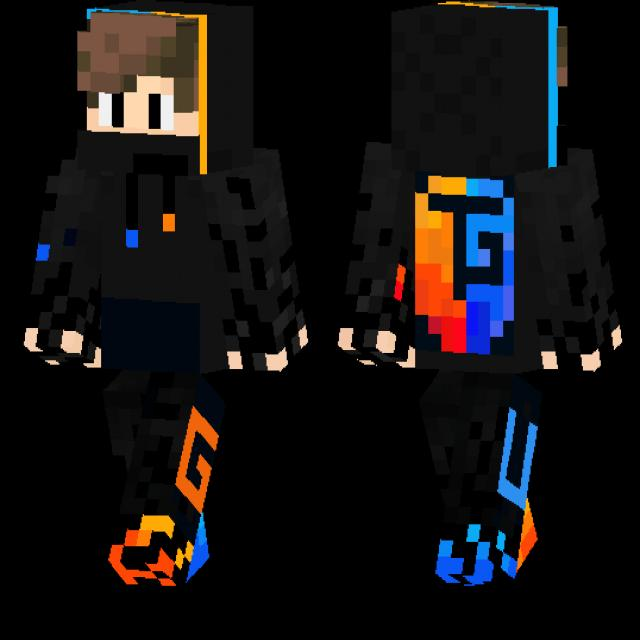Player: (22, 0, 307, 584)
